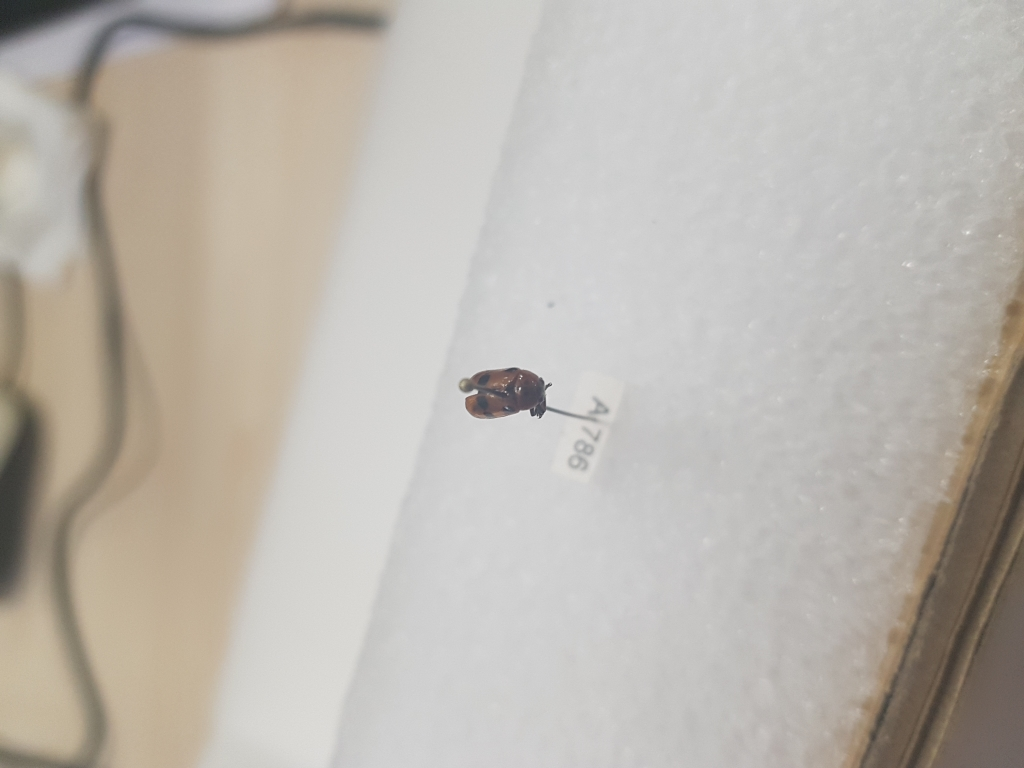Clytra_novempunctata: (460, 361, 551, 420)
